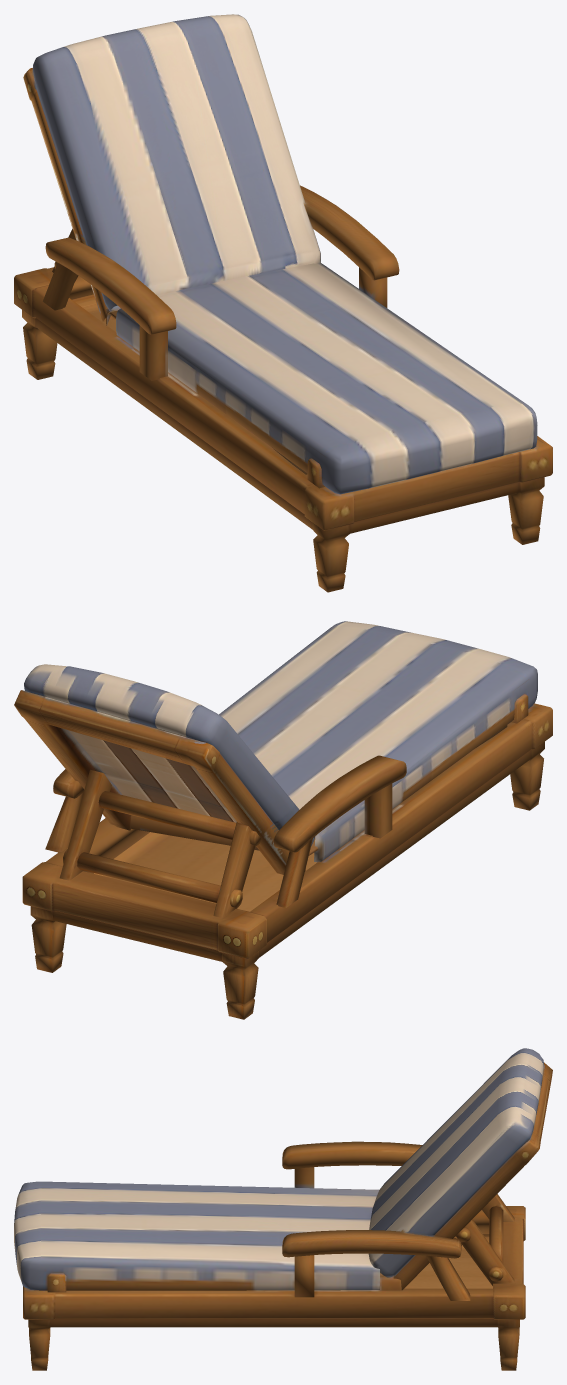
The model's file is Furn_Lounger.fbx.
3 views of the same model, one above another, from view 1: azimuth 30°, elevation 25°; view 2: azimuth 150°, elevation 25°; view 3: azimuth 270°, elevation 25° (orthographic). The views are drawn at different scales.
Visible parts, largest first — view 1: Furn_Lounger; view 2: Furn_Lounger; view 3: Furn_Lounger.
Boxes of the visible parts, x1,y1,x2,y2 form: Furn_Lounger: [14, 14, 552, 592]; Furn_Lounger: [14, 621, 552, 1019]; Furn_Lounger: [14, 1048, 552, 1370].
Bounding box in the file's own units: 0.8705 × 1.04 × 2.
1 material, 1 textured.
